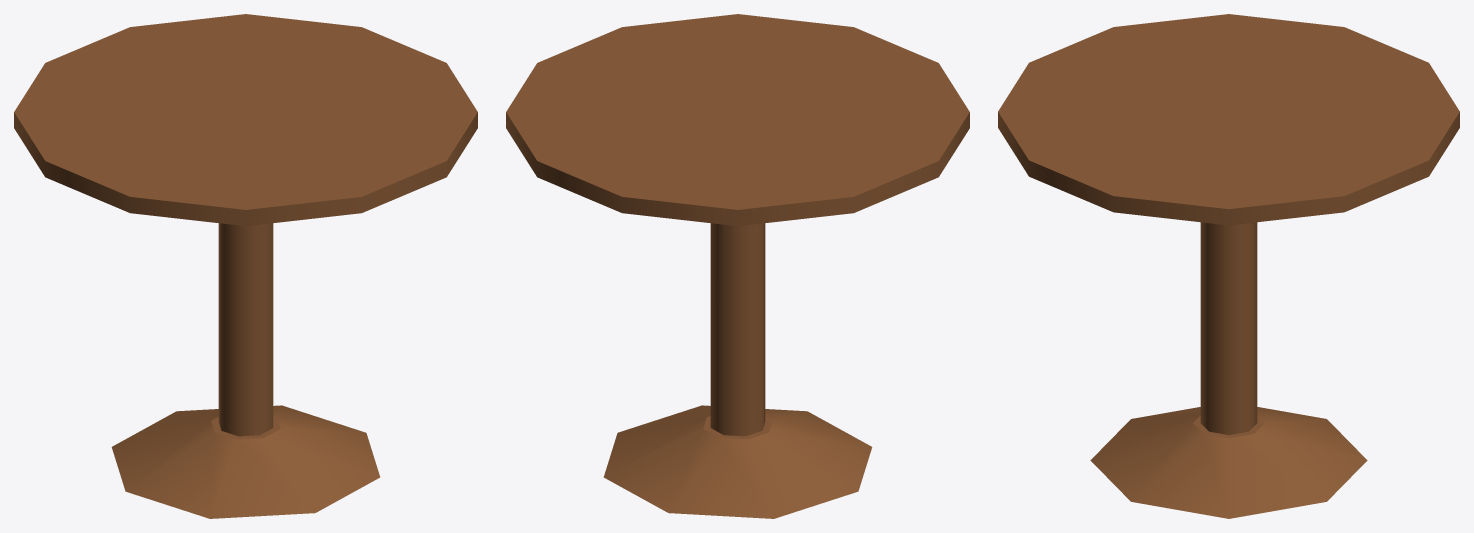
File: parametric-round_table-3rd.glb
3 views of the same model, side by side, from view 1: azimuth 30°, elevation 25°; view 2: azimuth 150°, elevation 25°; view 3: azimuth 270°, elevation 25° (orthographic).
Visible parts, largest first — view 1: parametric-round_table-3rd; view 2: parametric-round_table-3rd; view 3: parametric-round_table-3rd.
Part boxes in pixels (bbox=[...]): parametric-round_table-3rd: bbox=[14, 14, 477, 518]; parametric-round_table-3rd: bbox=[506, 14, 969, 518]; parametric-round_table-3rd: bbox=[998, 14, 1459, 518].
Bounding box in the file's own units: 0.9 × 0.75 × 0.9.
